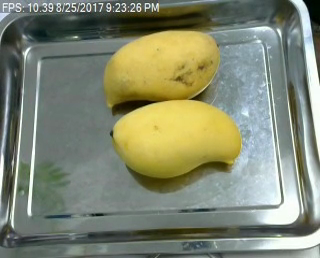Mango: (110, 98, 241, 178), (100, 28, 222, 106)
